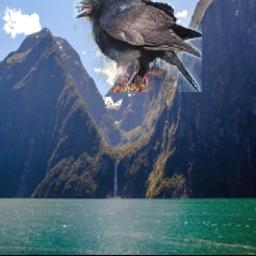Crow: (73, 0, 202, 92)
